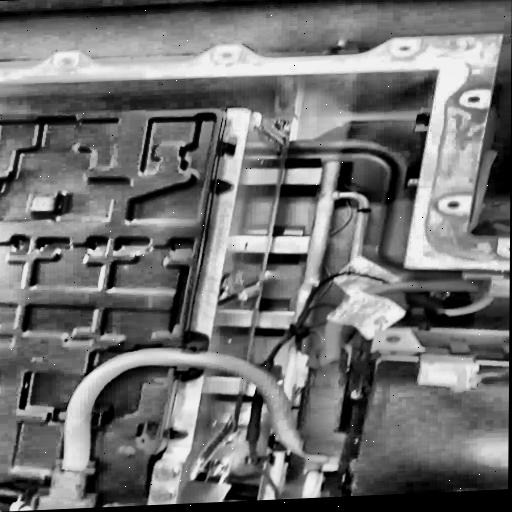high_volt_cable: (57, 330, 354, 491)
low_volt_cable: (240, 181, 381, 501)
